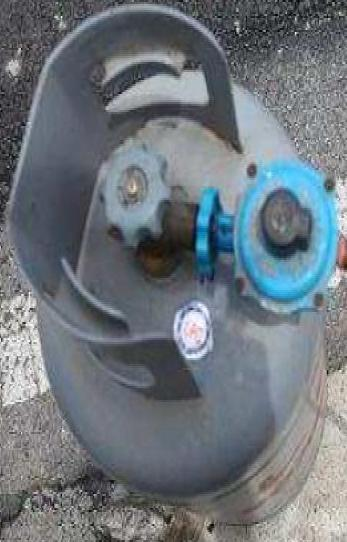cylinder: (1, 1, 347, 542)
